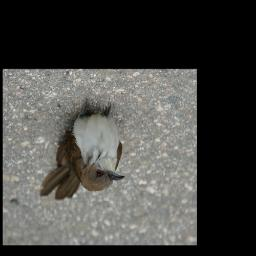Cuckoo: (40, 97, 126, 201)
